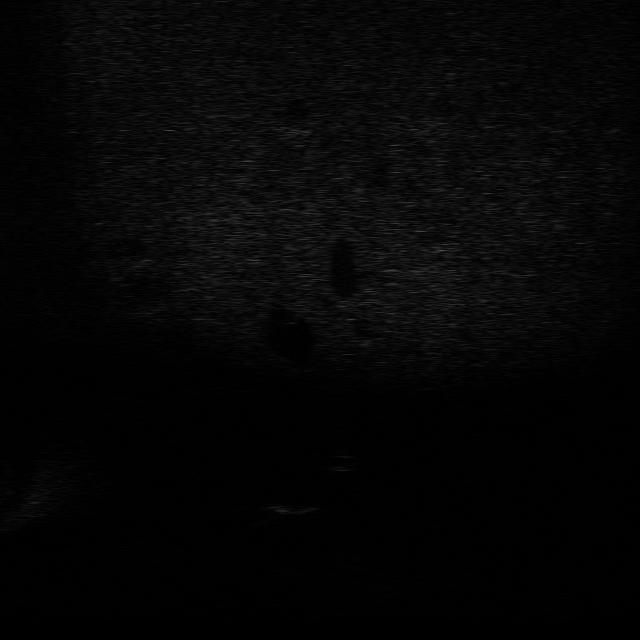ball: (318, 446, 370, 477)
square cage: (248, 491, 324, 524)
